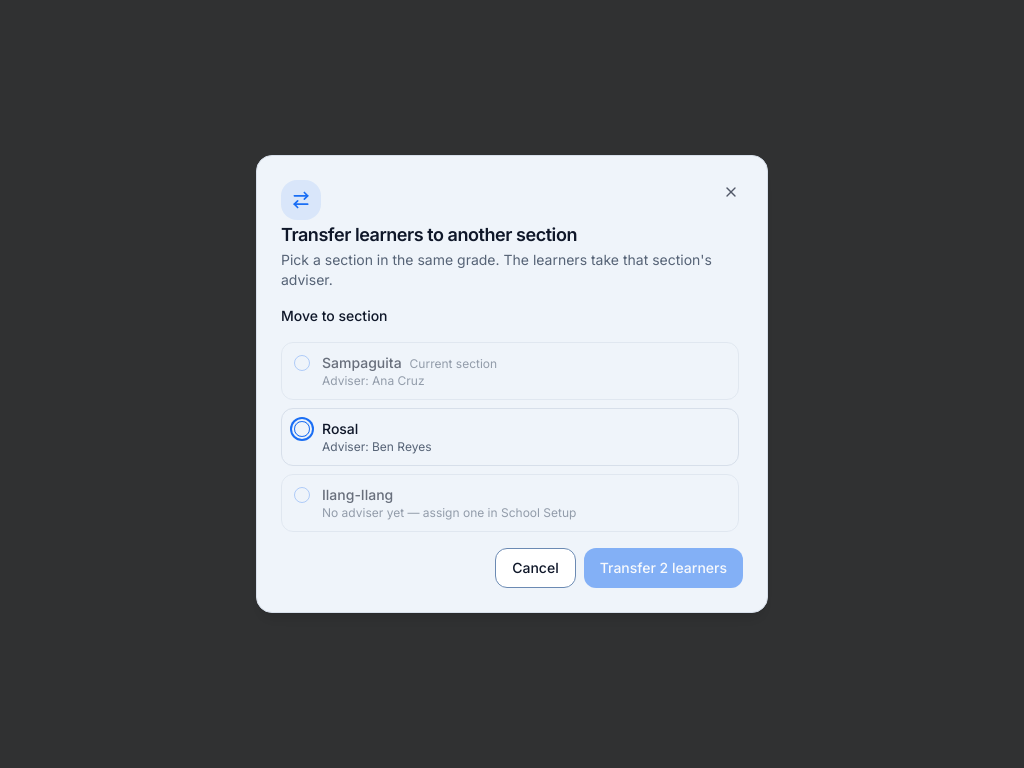
Test: TransferLearnersDialog — choosing a section › preselects nothing and keeps Submit disabled until a section is chosen
Expected: the radio button next to "Sampaguita" is shown, [294,355,310,371]
Expected: the button "Transfer 2 learners" is disabled, [584,548,743,588]
Click the radio button named "Rosal" next to "Rosal".
click(302, 429)  # box [294,421,310,437]
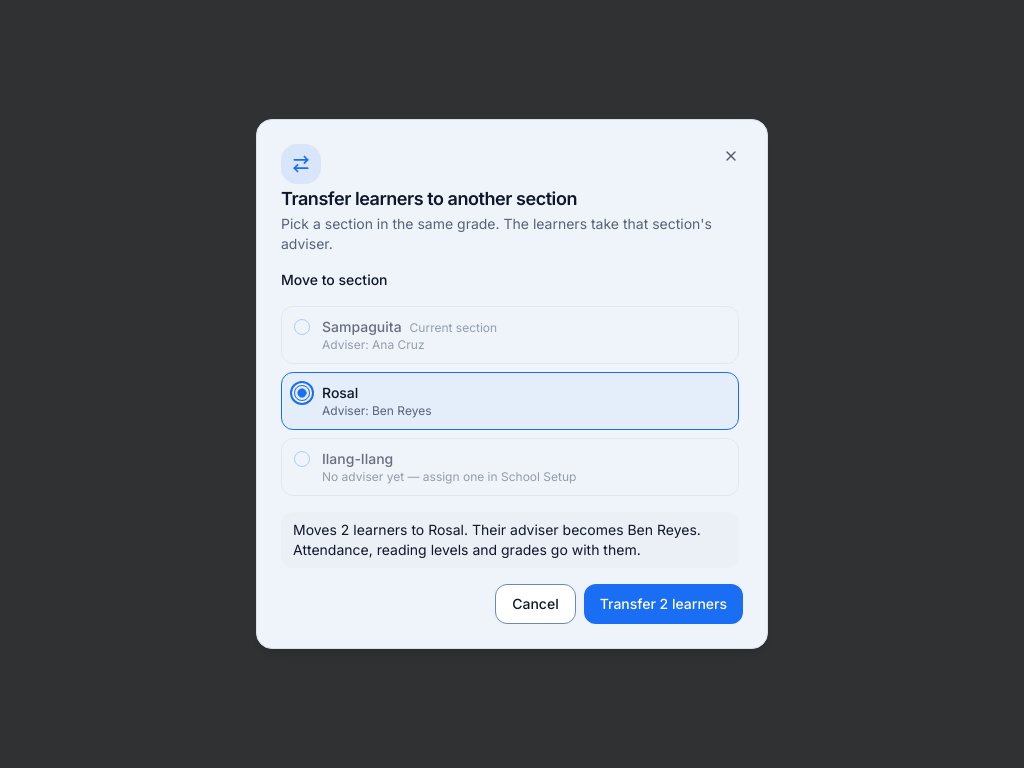
Expected: the button "Transfer 2 learners" is enabled, [584,584,743,624]
